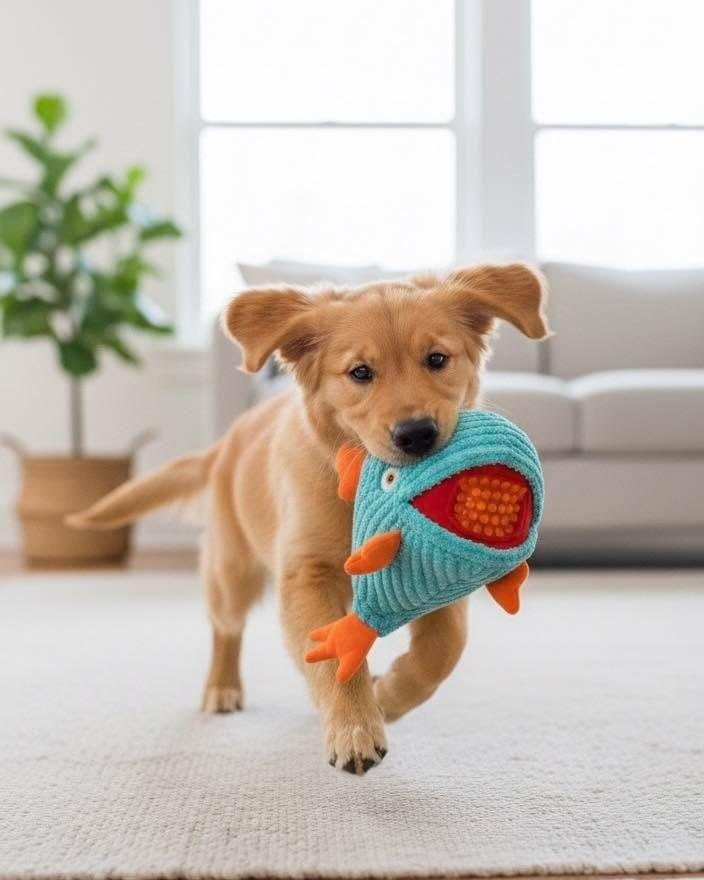puppy-dog: (65, 260, 555, 776)
